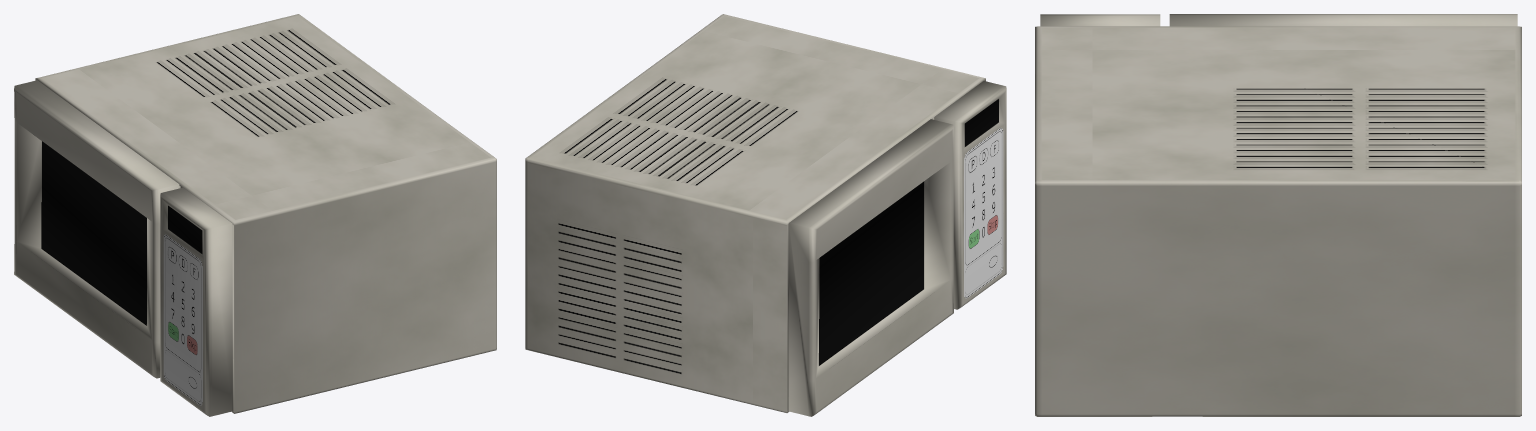
Rendered from Microwave1.fbx.
The picture shows the model from 3 angles, left to right: view 1: azimuth 30°, elevation 25°; view 2: azimuth 150°, elevation 25°; view 3: azimuth 270°, elevation 25°; orthographic projection. The views are drawn at different scales.
Parts seen in each view (by area): view 1: Microwave; view 2: Microwave; view 3: Microwave.
Boxes of the visible parts, left/top/right/bottom form: Microwave: left=14, top=14, right=496, bottom=416; Microwave: left=525, top=14, right=1006, bottom=416; Microwave: left=1035, top=14, right=1521, bottom=416.
Size of the model in its own units: 84.49 by 53.9 by 101.
